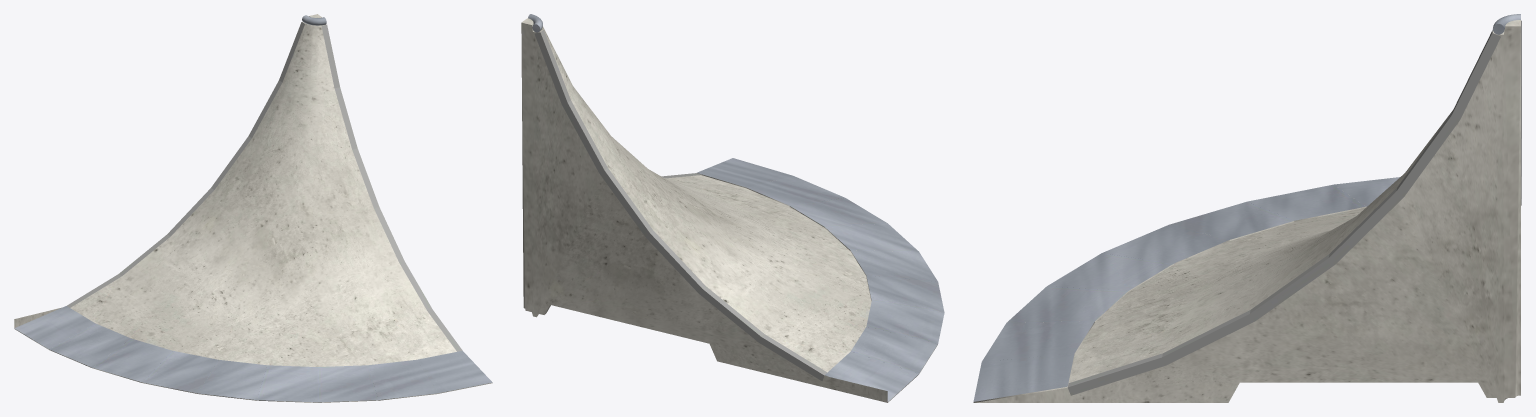
Rendered from kegel-150.gltf.
3 renders of one model, left to right at view 1: azimuth 30°, elevation 25°; view 2: azimuth 150°, elevation 25°; view 3: azimuth 270°, elevation 25°, orthographic. The views are drawn at different scales.
Visible parts, largest first — view 1: SK0477_Kegel_150.001; view 2: SK0477_Kegel_150.001; view 3: SK0477_Kegel_150.001.
Part boxes in pixels (x1=…): SK0477_Kegel_150.001: x1=14, y1=14, x2=492, y2=402; SK0477_Kegel_150.001: x1=521, y1=14, x2=944, y2=402; SK0477_Kegel_150.001: x1=973, y1=14, x2=1521, y2=402.
Size of the model in its own units: 1.95 by 1.49 by 1.95.
Materials: 3 (3 with a texture image).
